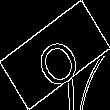O_NW: (26, 22, 84, 88)
